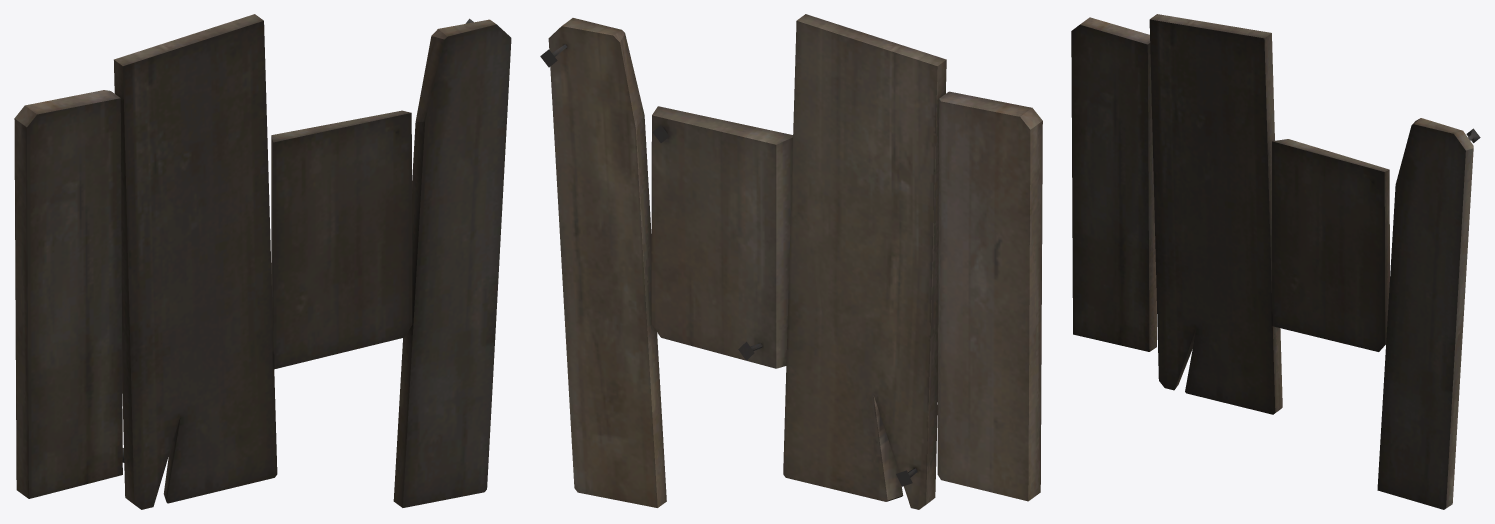
Rendered from props_forest_wood_patch1.glb.
3 renders of one model, left to right at view 1: azimuth 30°, elevation 25°; view 2: azimuth 150°, elevation 25°; view 3: azimuth 330°, elevation 25°, orthographic. The views are drawn at different scales.
Parts seen in each view (by area): view 1: models/props_forest/wood_patch1; view 2: models/props_forest/wood_patch1; view 3: models/props_forest/wood_patch1.
Boxes of the visible parts, x1,y1,x2,y2 form: models/props_forest/wood_patch1: [14, 14, 511, 509]; models/props_forest/wood_patch1: [540, 14, 1042, 509]; models/props_forest/wood_patch1: [1071, 14, 1480, 509].
Size of the model in its own units: 84.41 by 87.13 by 7.7.
Materials: 1 (1 with a texture image).
